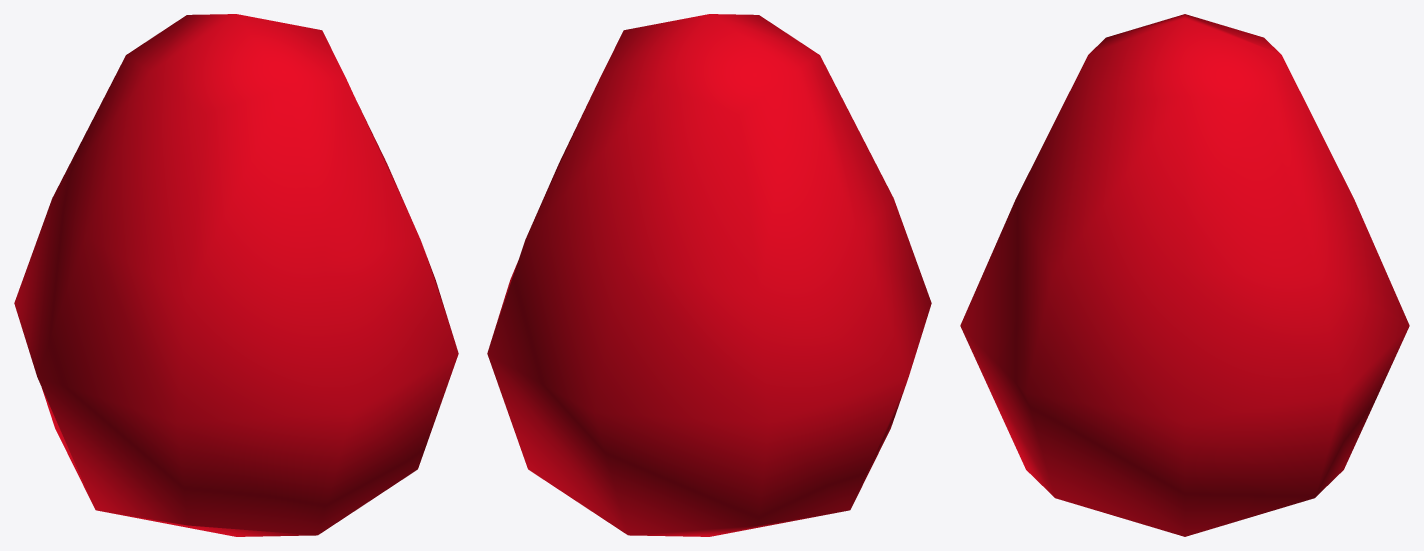
The model's file is PaintGlob.fbx.
3 views of the same model, side by side, from view 1: azimuth 30°, elevation 25°; view 2: azimuth 150°, elevation 25°; view 3: azimuth 270°, elevation 25° (orthographic). The views are drawn at different scales.
Parts seen in each view (by area): view 1: Cube.009; view 2: Cube.009; view 3: Cube.009.
Part boxes in pixels (bbox=[...]): Cube.009: bbox=[14, 14, 458, 536]; Cube.009: bbox=[487, 14, 931, 536]; Cube.009: bbox=[960, 14, 1409, 536].
Bounding box in the file's own units: 186 × 233 × 186.
